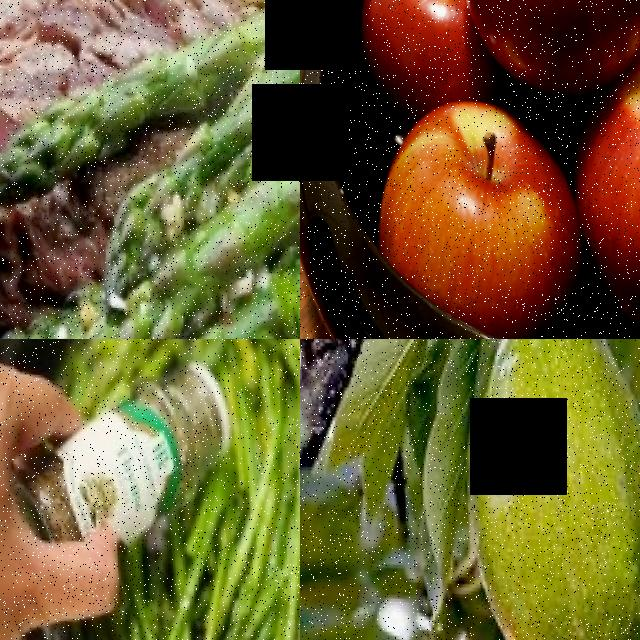apple: (373, 63, 586, 338), (565, 39, 640, 287), (351, 0, 505, 102), (446, 0, 640, 77)
asparagus: (0, 71, 190, 189), (44, 299, 195, 339)
avocado: (448, 339, 640, 640)
